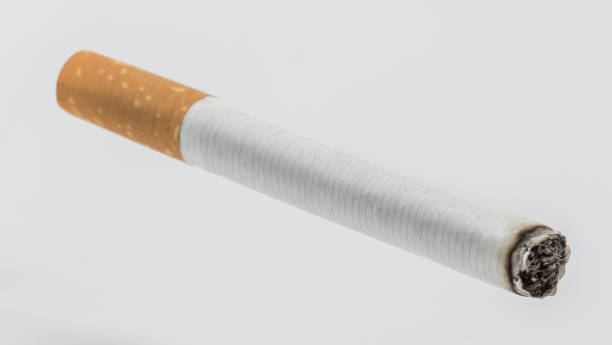cigarette: (52, 45, 570, 299)
